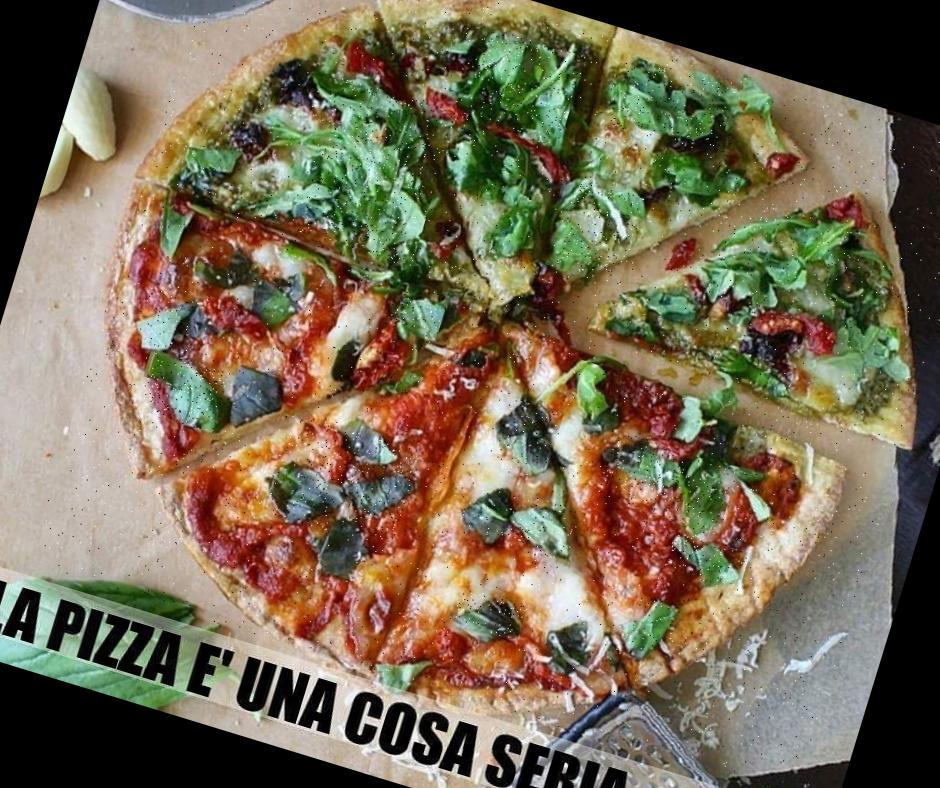Arugula: (295, 78, 457, 266), (706, 190, 860, 329), (434, 128, 563, 261), (460, 27, 586, 148), (606, 56, 737, 158), (556, 181, 646, 286), (642, 146, 754, 224)
Basil: (262, 412, 421, 554), (596, 432, 738, 534), (466, 484, 586, 566), (134, 350, 230, 434), (662, 531, 750, 593), (493, 398, 563, 474), (130, 287, 204, 357), (453, 588, 528, 642), (558, 359, 614, 421), (626, 596, 678, 662), (392, 297, 445, 336)
Pizza: (27, 0, 940, 788)
